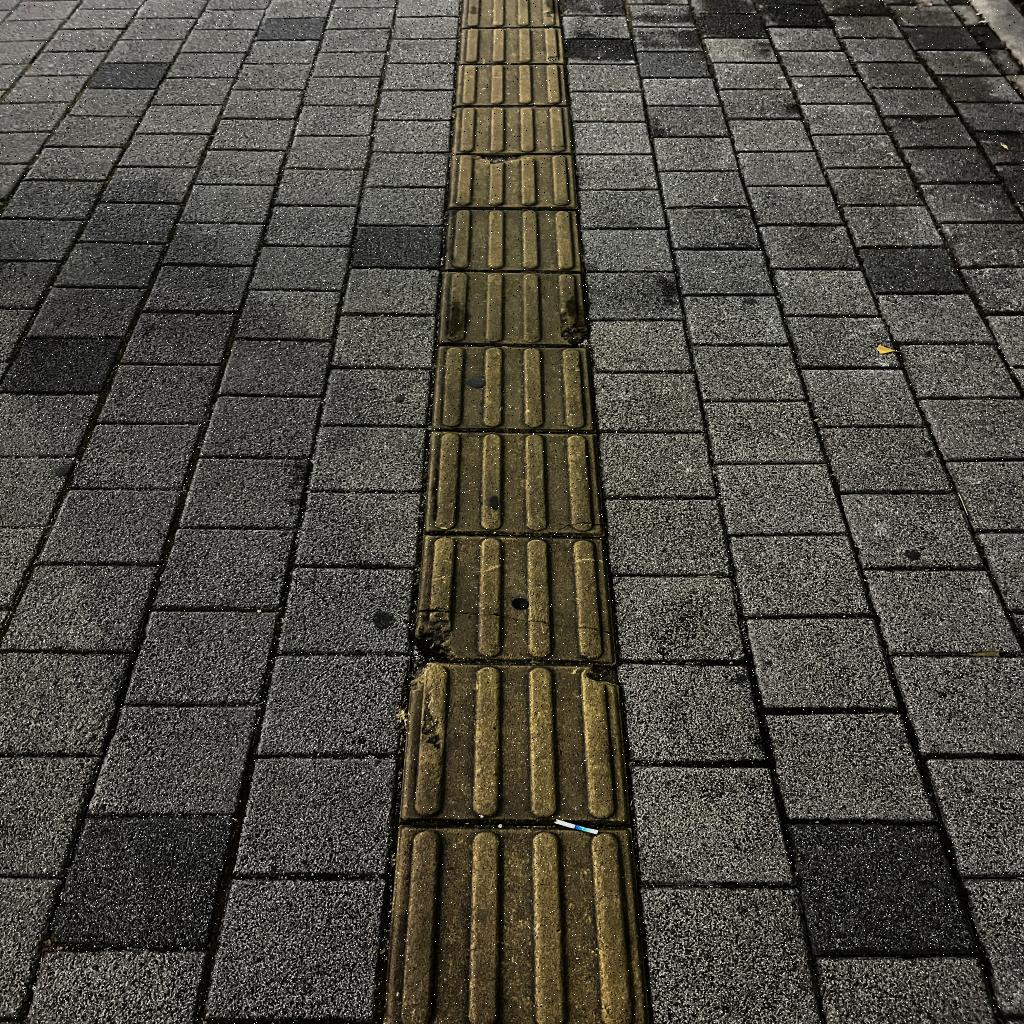Straight block broken: (400, 663, 629, 821), (414, 536, 618, 664), (438, 272, 588, 346), (449, 155, 577, 208)
Straight block normal: (426, 432, 605, 534), (433, 347, 593, 430), (445, 210, 582, 271)
